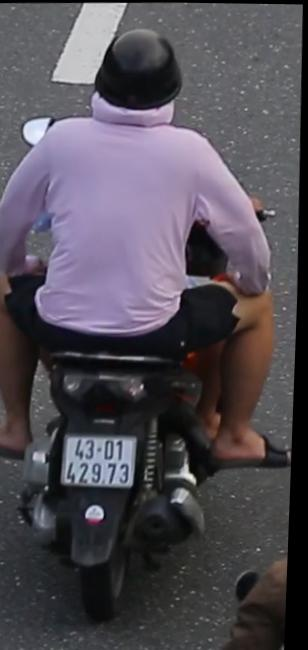LP: (59, 426, 144, 494)
helmet: (86, 21, 187, 137)
